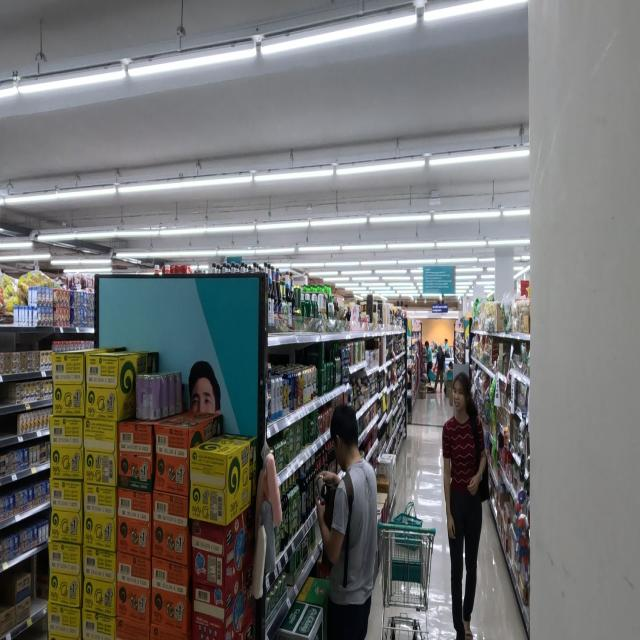shoplifting: (314, 397, 379, 640)
